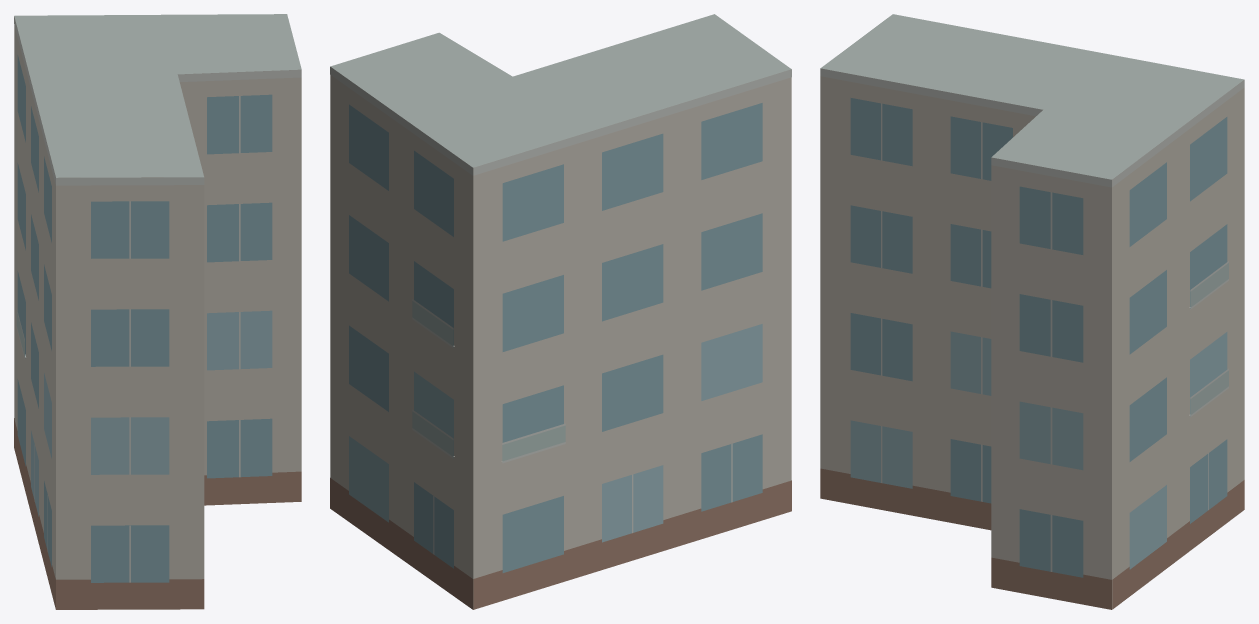
The model's file is survey-upis-32981414.glb.
3 views of the same model, side by side, from view 1: azimuth 30°, elevation 25°; view 2: azimuth 150°, elevation 25°; view 3: azimuth 270°, elevation 25° (orthographic). The views are drawn at different scales.
Parts seen in each view (by area): view 1: survey-upis-32981414.tmp; view 2: survey-upis-32981414.tmp; view 3: survey-upis-32981414.tmp.
Boxes of the visible parts, left/top/right/bottom form: survey-upis-32981414.tmp: left=14, top=14, right=301, bottom=609; survey-upis-32981414.tmp: left=330, top=14, right=791, bottom=609; survey-upis-32981414.tmp: left=820, top=14, right=1244, bottom=609.
Bounding box in the file's own units: 11.12 × 13.45 × 12.03.
